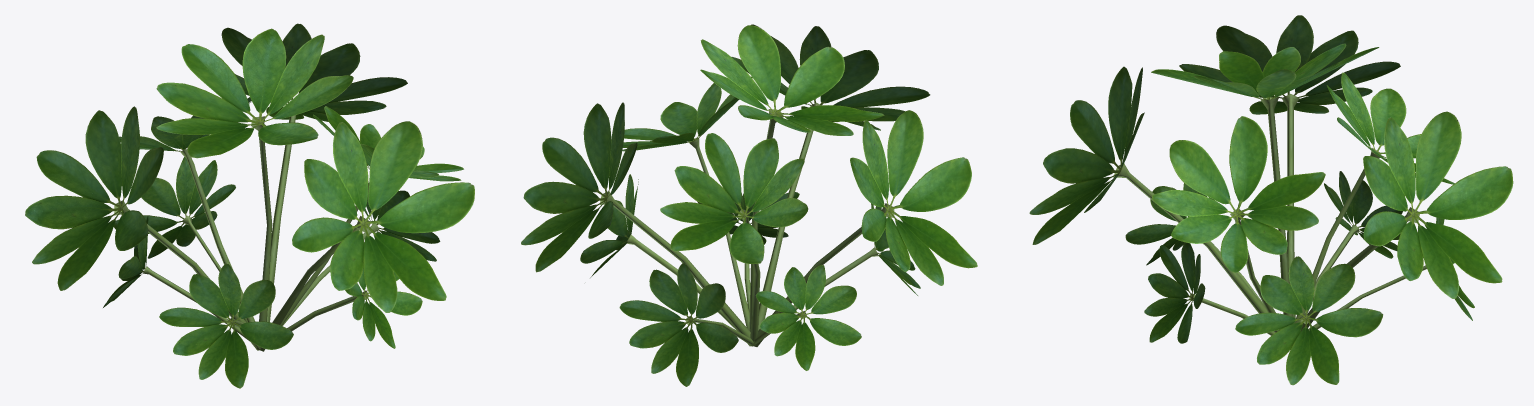
File: Plant_07.FBX
3 views of the same model, side by side, from view 1: azimuth 30°, elevation 25°; view 2: azimuth 150°, elevation 25°; view 3: azimuth 270°, elevation 25° (orthographic). The views are drawn at different scales.
Parts seen in each view (by area): view 1: Plant_07; view 2: Plant_07; view 3: Plant_07.
Part boxes in pixels (bbox=[...]): Plant_07: bbox=[25, 23, 474, 388]; Plant_07: bbox=[521, 24, 977, 386]; Plant_07: bbox=[1029, 15, 1513, 385].
Size of the model in its own units: 0.8455 by 0.6124 by 0.8929.
